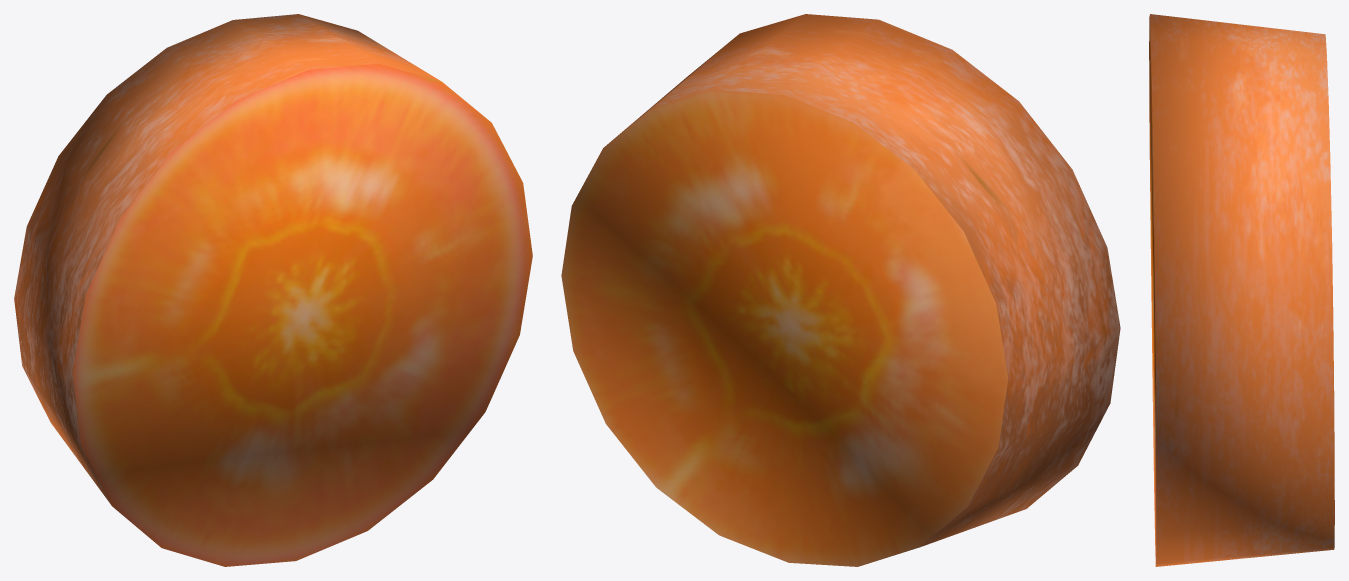
File: Carrot3.fbx
3 renders of one model, left to right at view 1: azimuth 30°, elevation 25°; view 2: azimuth 150°, elevation 25°; view 3: azimuth 270°, elevation 25°, orthographic. The views are drawn at different scales.
Visible parts, largest first — view 1: Carrot_Low; view 2: Carrot_Low; view 3: Carrot_Low.
Boxes of the visible parts, bbox=[...] form: Carrot_Low: bbox=[14, 14, 532, 566]; Carrot_Low: bbox=[561, 14, 1120, 566]; Carrot_Low: bbox=[1149, 14, 1334, 566].
Bounding box in the file's own units: 159 × 161 × 53.07.
Materials: 1 (1 with a texture image).
